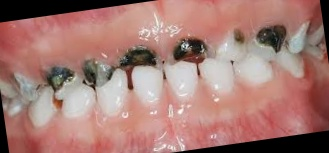Caries: (36, 32, 217, 97), (228, 13, 294, 59)
